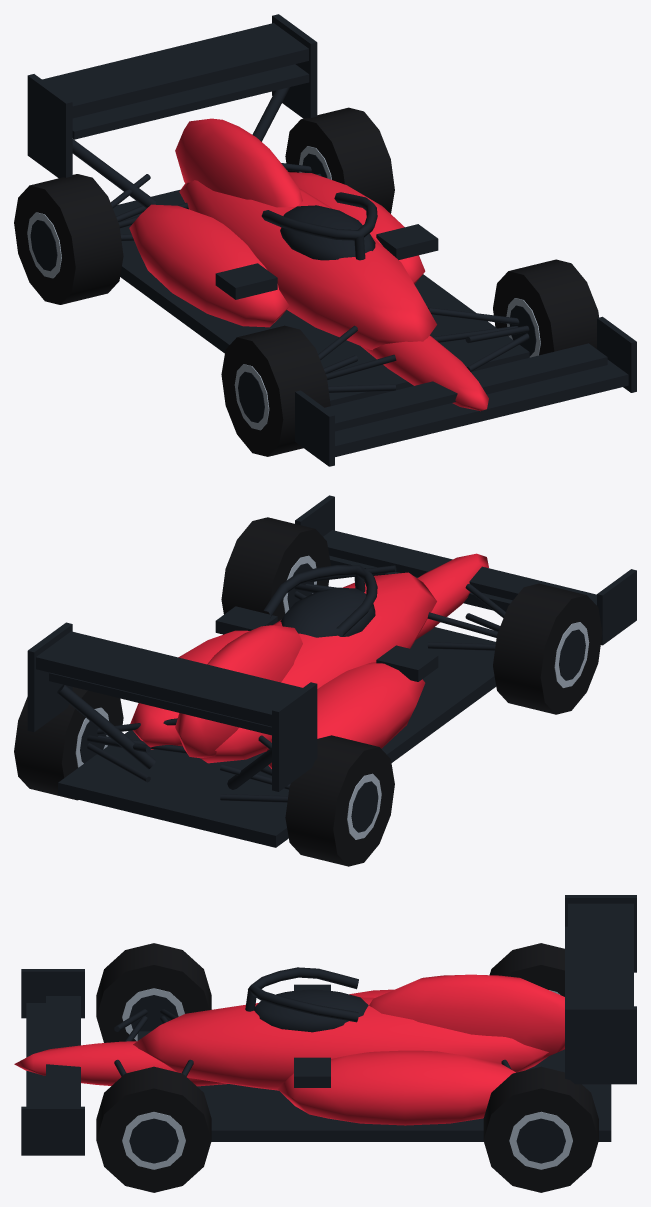
3 views of the same model, one above another, from view 1: azimuth 30°, elevation 25°; view 2: azimuth 150°, elevation 25°; view 3: azimuth 270°, elevation 25° (orthographic). The views are drawn at different scales.
Visible parts, largest first — view 1: GL_Car_Body, GL_Car_Wheel_RL, object 4, object 13, GL_Car_Wheel_FL, GL_Car_Wheel_FR, object 5, GL_Car_Wheel_RR, object 6, object 14, object 8, object 3 (+9 smaller); view 2: GL_Car_Body, object 4, GL_Car_Wheel_FL, object 13, GL_Car_Wheel_RL, GL_Car_Wheel_FR, GL_Car_Wheel_RR, object 6, object 8, object 3, object 11, object 7 (+8 smaller); view 3: GL_Car_Body, GL_Car_Wheel_FR, GL_Car_Wheel_RR, object 4, GL_Car_Wheel_FL, object 13, object 11, object 6, object 10, object 3, GL_Car_Wheel_RL, object 15 (+4 smaller).
Boxes of the visible parts, x1=… form: GL_Car_Body: x1=129, y1=118, x2=488, y2=411; GL_Car_Wheel_RL: x1=14, y1=174, x2=123, y2=304; object 4: x1=113, y1=189, x2=529, y2=405; object 13: x1=42, y1=23, x2=308, y2=118; GL_Car_Wheel_FL: x1=221, y1=325, x2=330, y2=456; GL_Car_Wheel_FR: x1=493, y1=259, x2=598, y2=357; object 5: x1=335, y1=360, x2=628, y2=456; GL_Car_Wheel_RR: x1=285, y1=107, x2=394, y2=213; object 6: x1=325, y1=343, x2=607, y2=431; object 14: x1=72, y1=64, x2=309, y2=139; object 8: x1=27, y1=74, x2=72, y2=177; object 3: x1=280, y1=205, x2=375, y2=260; GL_Car_Body: x1=130, y1=553, x2=488, y2=768; object 4: x1=58, y1=619, x2=496, y2=847; GL_Car_Wheel_FL: x1=493, y1=583, x2=602, y2=714; object 13: x1=36, y1=631, x2=302, y2=726; GL_Car_Wheel_RL: x1=285, y1=735, x2=394, y2=866; GL_Car_Wheel_FR: x1=221, y1=517, x2=330, y2=621; GL_Car_Wheel_RR: x1=14, y1=687, x2=123, y2=800; object 6: x1=323, y1=530, x2=596, y2=605; object 8: x1=272, y1=682, x2=317, y2=791; object 3: x1=280, y1=587, x2=375, y2=637; object 11: x1=27, y1=622, x2=72, y2=732; object 7: x1=597, y1=569, x2=636, y2=645; GL_Car_Body: x1=14, y1=974, x2=564, y2=1125; GL_Car_Wheel_FR: x1=96, y1=1066, x2=211, y2=1192; GL_Car_Wheel_RR: x1=483, y1=1066, x2=598, y2=1192; object 4: x1=137, y1=1031, x2=611, y2=1141; GL_Car_Wheel_FL: x1=96, y1=943, x2=211, y2=1042; object 13: x1=568, y1=903, x2=633, y2=1006; object 11: x1=565, y1=1006, x2=636, y2=1084; object 6: x1=46, y1=996, x2=80, y2=1106; object 10: x1=21, y1=1106, x2=84, y2=1155; object 3: x1=254, y1=989, x2=368, y2=1032; GL_Car_Wheel_RL: x1=489, y1=943, x2=564, y2=996; object 15: x1=248, y1=967, x2=358, y2=1022.
Bounding box in the file's own units: 1.68 × 0.9 × 3.02.
